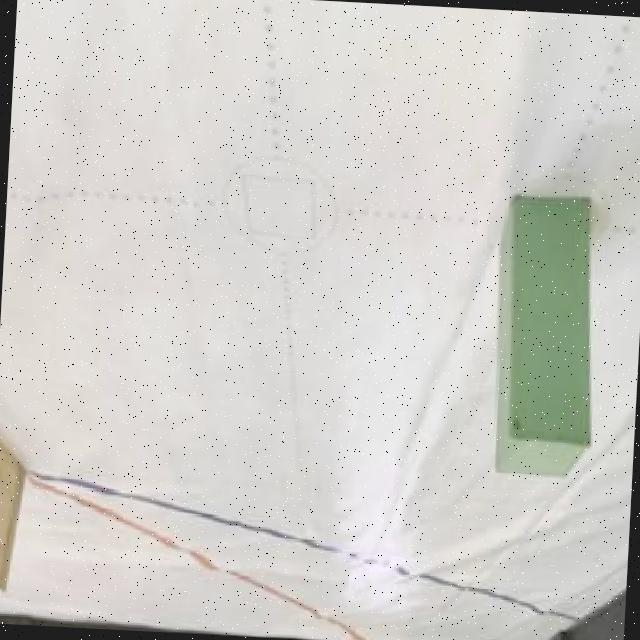greenbox: (488, 195, 602, 482)
